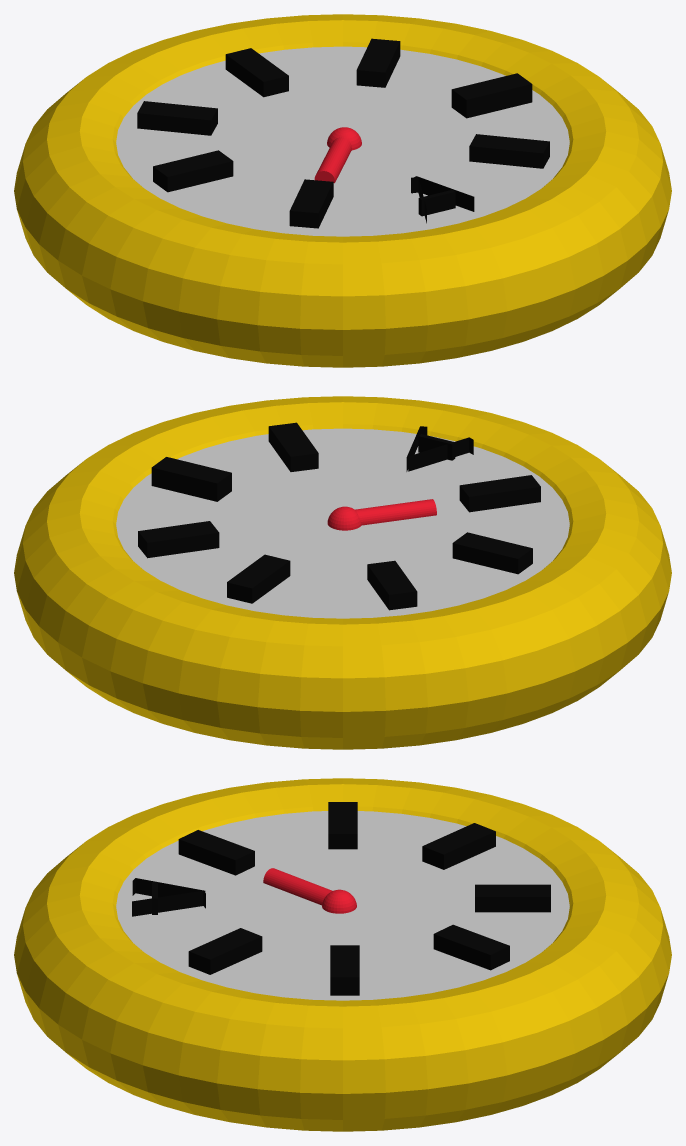
The model's file is AMMETER_ZERO_01.fbx.
3 renders of one model, top to bottom at view 1: azimuth 30°, elevation 25°; view 2: azimuth 150°, elevation 25°; view 3: azimuth 270°, elevation 25°, orthographic.
Visible parts, largest first — view 1: 环体, 柱体, 立方体.003, 立方体.006, 立方体.007, 立方体, 立方体.005, 立方体.001, 立方体.002, 立方体.008, 柱体.001; view 2: 环体, 柱体, 立方体.003, 立方体.001, 立方体.002, 立方体, 柱体.001, 立方体.005, 立方体.006, 立方体.007, 立方体.008; view 3: 环体, 柱体, 立方体.005, 立方体.002, 立方体.001, 立方体.007, 立方体.006, 立方体.008, 柱体.001, 立方体.003, 立方体.
Boxes of the visible parts, x1,y1,x2,y2 form: 环体: (14, 14, 671, 367); 柱体: (116, 46, 569, 236); 立方体.003: (451, 73, 532, 118); 立方体.006: (137, 101, 217, 135); 立方体.007: (469, 134, 549, 168); 立方体: (153, 150, 233, 192); 立方体.005: (225, 48, 288, 97); 立方体.001: (289, 179, 333, 228); 立方体.002: (356, 38, 400, 87); 立方体.008: (411, 176, 474, 223); 柱体.001: (314, 127, 361, 183); 环体: (14, 396, 671, 749); 柱体: (116, 428, 569, 618); 立方体.003: (151, 457, 231, 501); 立方体.001: (459, 475, 540, 512); 立方体.002: (138, 521, 219, 558); 立方体: (452, 532, 532, 574); 柱体.001: (327, 499, 436, 530); 立方体.005: (227, 554, 290, 603); 立方体.006: (367, 560, 417, 610); 立方体.007: (268, 422, 318, 471); 立方体.008: (406, 426, 473, 471); 环体: (14, 778, 671, 1131); 柱体: (116, 811, 569, 1000); 立方体.005: (475, 884, 550, 912); 立方体.002: (433, 924, 509, 970); 立方体.001: (178, 830, 254, 875); 立方体.007: (188, 928, 262, 974); 立方体.006: (422, 823, 495, 869); 立方体.008: (132, 878, 205, 916); 柱体.001: (263, 868, 356, 913); 立方体.003: (330, 945, 359, 995); 立方体: (328, 802, 357, 849).
Bounding box in the file's own units: 250 × 53.09 × 250.
